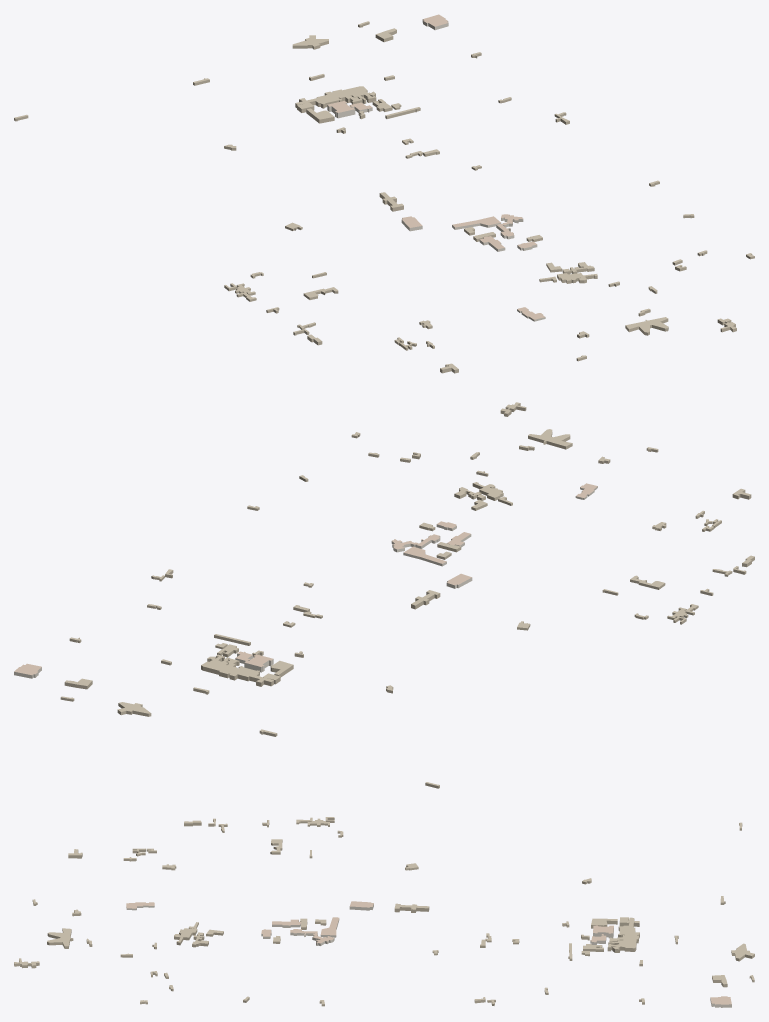
3 views of the same model, one above another, from view 1: azimuth 30°, elevation 25°; view 2: azimuth 150°, elevation 25°; view 3: azimuth 270°, elevation 25° (orthographic). The views are drawn at different scales.
Size of the model in its own units: 1497 by 27.82 by 2431.
